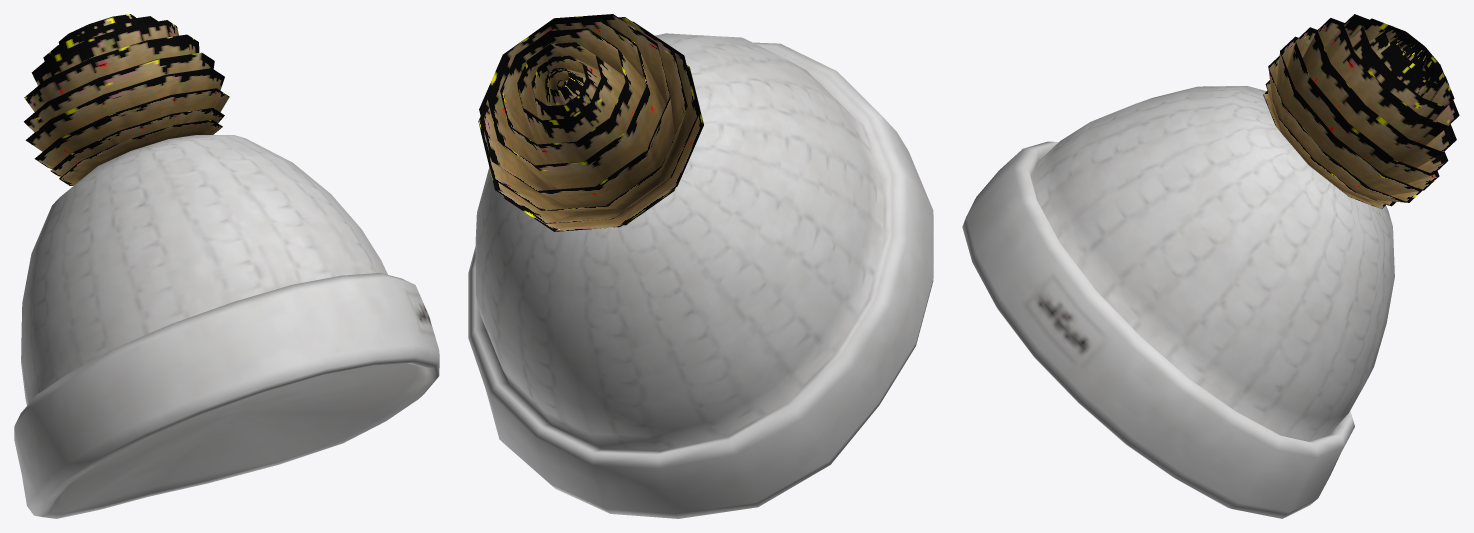
The model's file is p0_hdw0004_00_hdw00.gltf.
3 renders of one model, left to right at view 1: azimuth 30°, elevation 25°; view 2: azimuth 150°, elevation 25°; view 3: azimuth 270°, elevation 25°, orthographic. The views are drawn at different scales.
Visible parts, largest first — view 1: hdw00_ponpon_mesh_shape:cap, hdw00_ponpon_mesh_shape:cap_obj; view 2: hdw00_ponpon_mesh_shape:cap, hdw00_ponpon_mesh_shape:cap_obj; view 3: hdw00_ponpon_mesh_shape:cap, hdw00_ponpon_mesh_shape:cap_obj.
Boxes of the visible parts, x1,y1,x2,y2 form: hdw00_ponpon_mesh_shape:cap: (14,135,439,518); hdw00_ponpon_mesh_shape:cap_obj: (24,14,229,185); hdw00_ponpon_mesh_shape:cap: (468,33,933,518); hdw00_ponpon_mesh_shape:cap_obj: (478,14,703,231); hdw00_ponpon_mesh_shape:cap: (962,86,1394,518); hdw00_ponpon_mesh_shape:cap_obj: (1263,14,1459,209).
Size of what is drawn, in the model's own units: 0.3217 by 0.379 by 0.3727.
2 materials, 2 textured.
